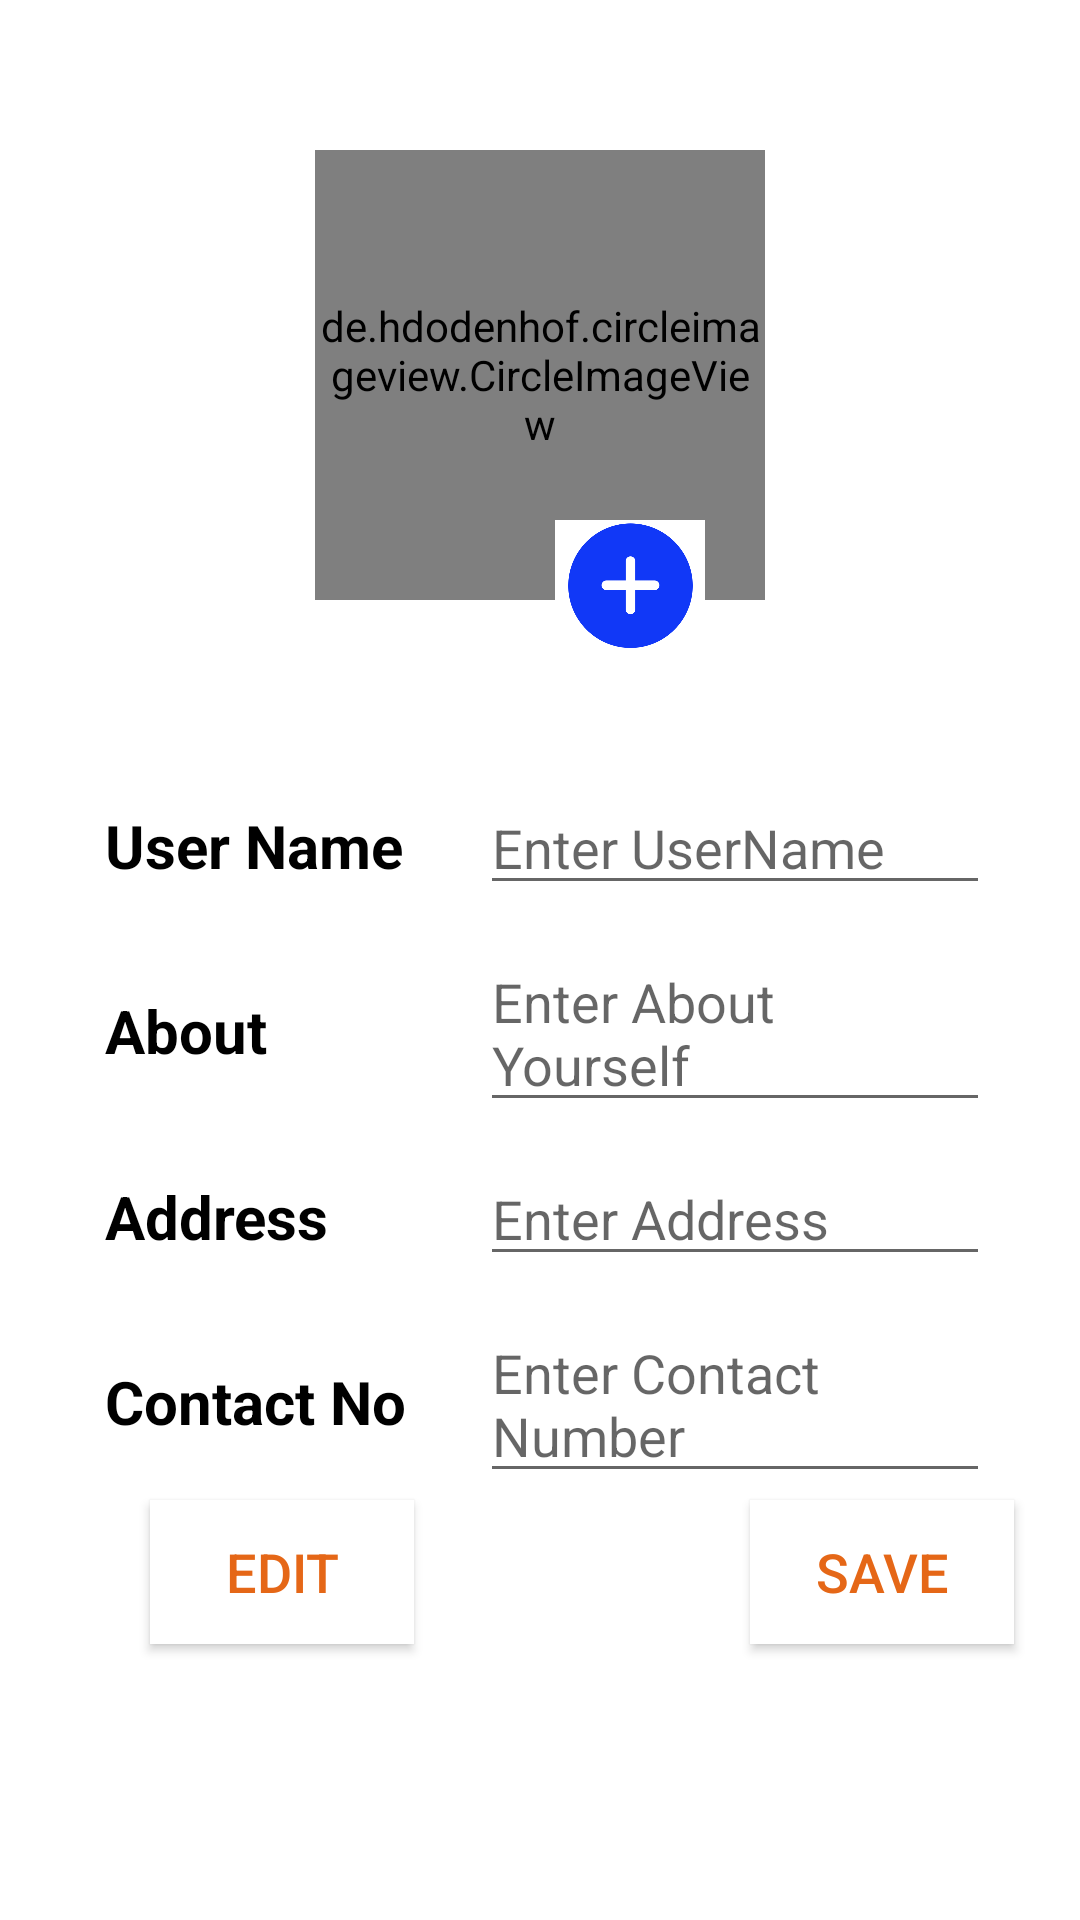

Point at icon controls on the screen. Image size 1080×1920, points as (x,y).
pluss: (630,586)
